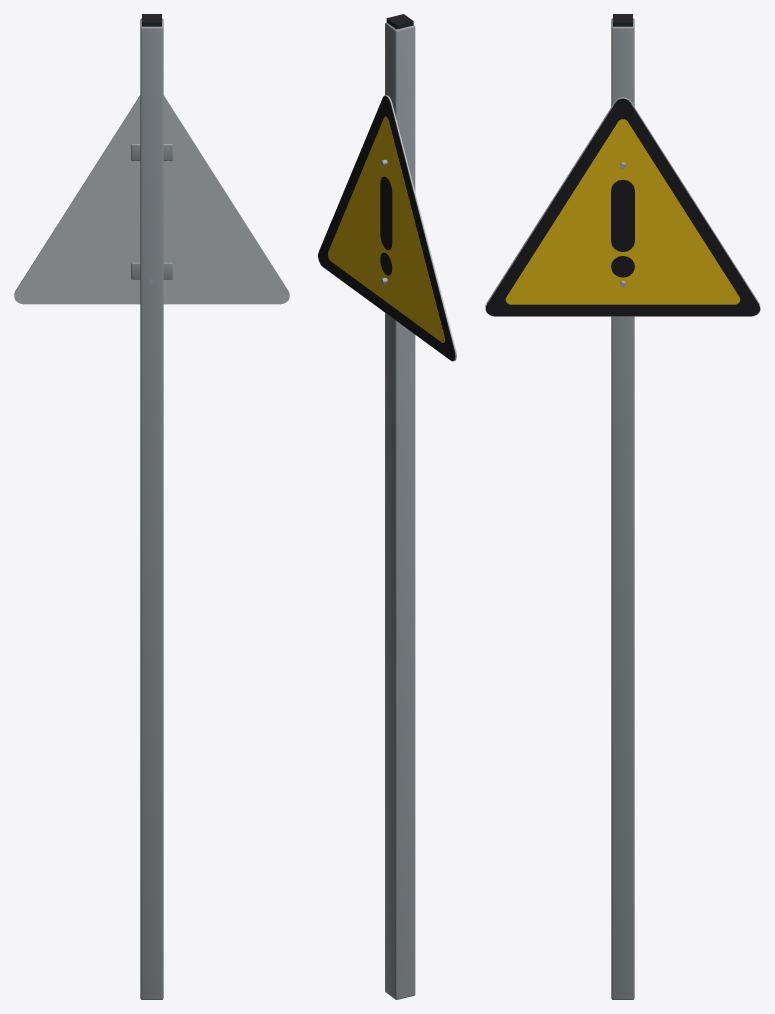
File: caution-sign-post.glb
The picture shows the model from 3 angles, left to right: view 1: azimuth 90°, elevation 25°; view 2: azimuth 210°, elevation 25°; view 3: azimuth 270°, elevation 25°; orthographic projection.
Visible parts, largest first — view 1: Caution_Sign_Post; view 2: Caution_Sign_Post; view 3: Caution_Sign_Post.
Boxes of the visible parts, x1,y1,x2,y2 form: Caution_Sign_Post: [14, 14, 289, 999]; Caution_Sign_Post: [318, 14, 456, 999]; Caution_Sign_Post: [485, 14, 760, 999].
Bounding box in the file's own units: 0.07 × 2.31 × 0.5901.
